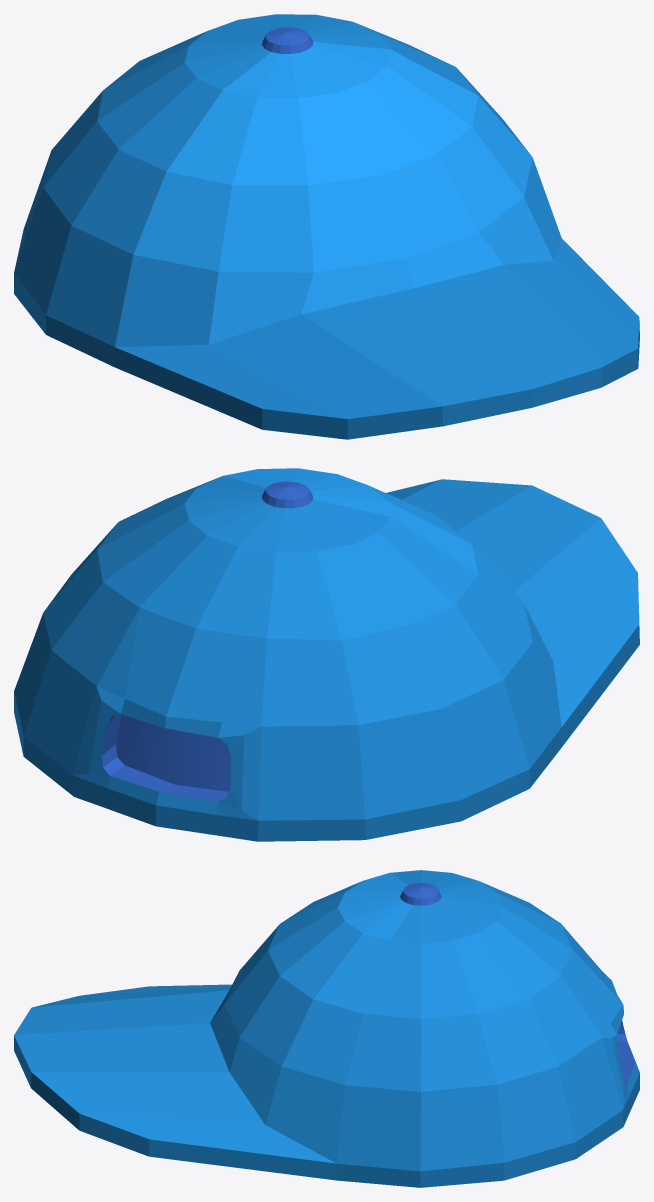
File: SR_Cap_Blue.fbx
The picture shows the model from 3 angles, top to bottom: view 1: azimuth 30°, elevation 25°; view 2: azimuth 150°, elevation 25°; view 3: azimuth 270°, elevation 25°; orthographic projection. The views are drawn at different scales.
Parts seen in each view (by area): view 1: SR_Cap_Blue; view 2: SR_Cap_Blue; view 3: SR_Cap_Blue.
Part boxes in pixels (left/top/right/bottom): SR_Cap_Blue: left=14, top=14, right=639, bottom=439; SR_Cap_Blue: left=14, top=468, right=639, bottom=841; SR_Cap_Blue: left=14, top=870, right=639, bottom=1187.
Bounding box in the file's own units: 131 × 63.17 × 177.
